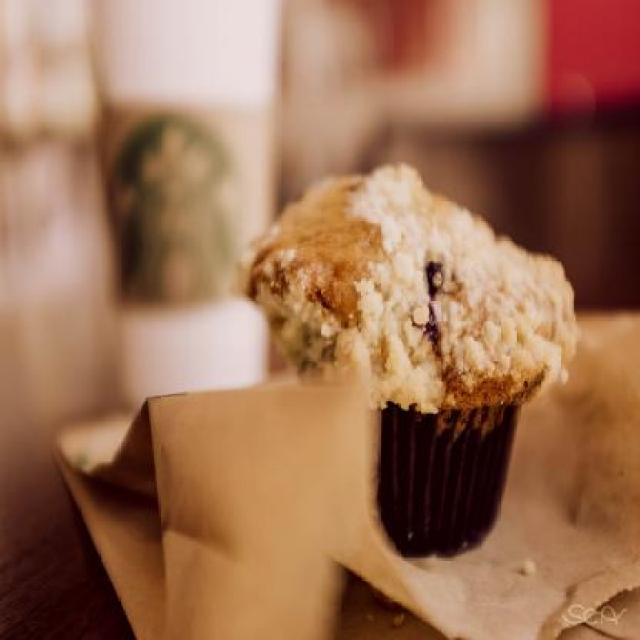Muffin: (229, 162, 583, 566)
